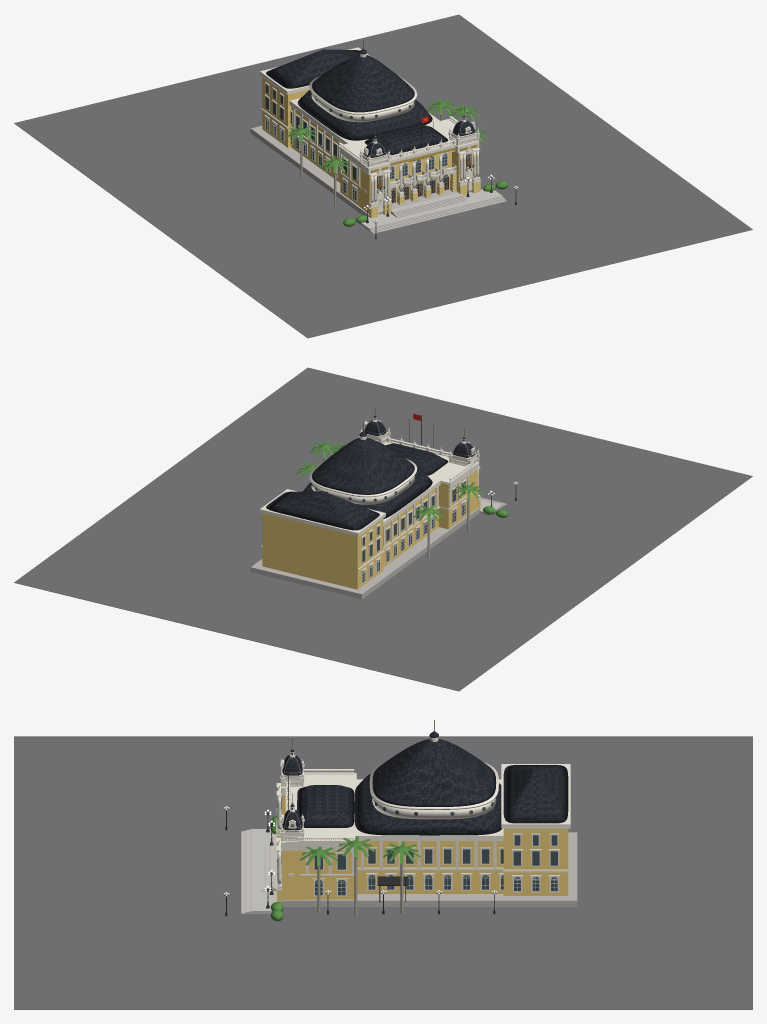
Rendered from nha_hat_lon.glb.
3 views of the same model, one above another, from view 1: azimuth 30°, elevation 25°; view 2: azimuth 150°, elevation 25°; view 3: azimuth 270°, elevation 25° (orthographic). The views are drawn at different scales.
Parts seen in each view (by area): view 1: NhaHatLon_ChiTiet; view 2: NhaHatLon_ChiTiet; view 3: NhaHatLon_ChiTiet.
Boxes of the visible parts, <box> form: NhaHatLon_ChiTiet: <box>14,14,752,338</box>; NhaHatLon_ChiTiet: <box>14,367,752,691</box>; NhaHatLon_ChiTiet: <box>14,720,752,1009</box>.
Bounding box in the file's own units: 140 × 36.62 × 160.
Materials: 26 (1 with a texture image).
